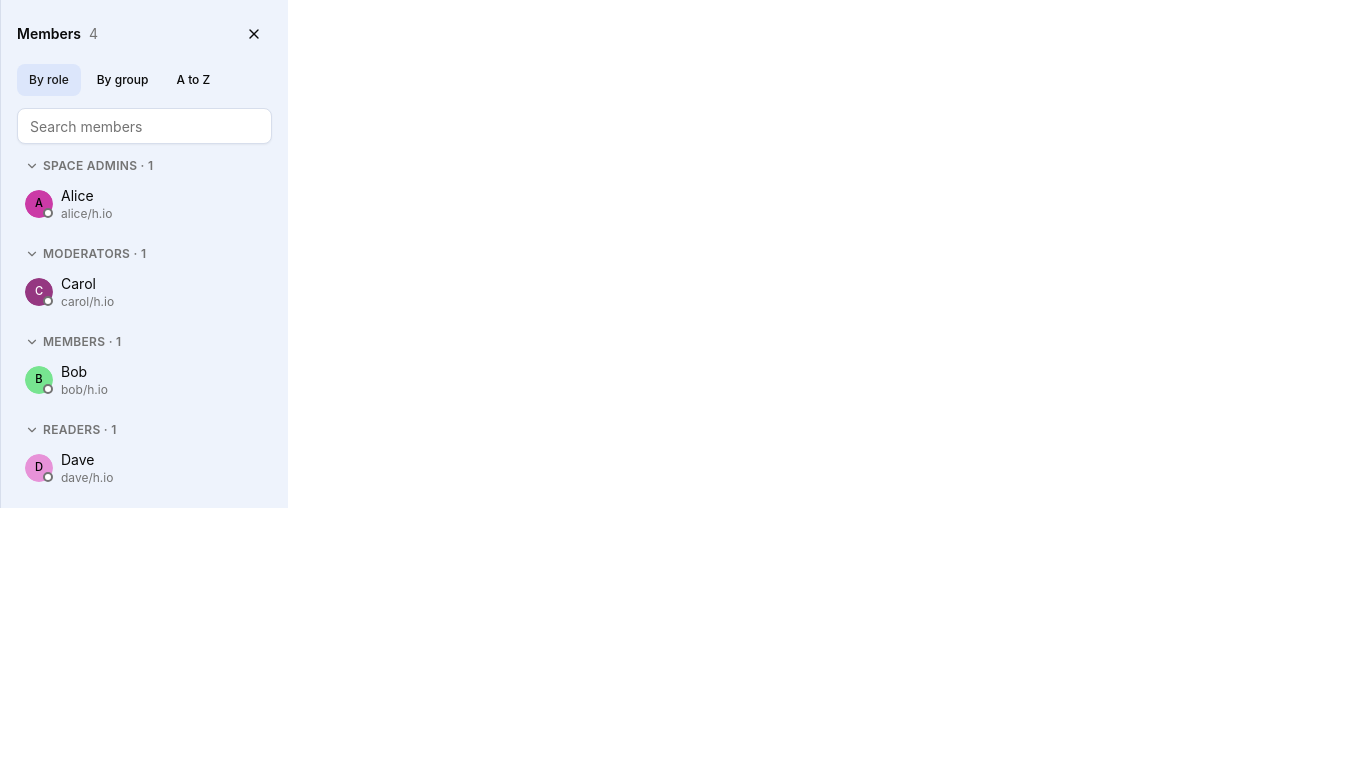
Scenario: MembersPanel, inline from lg › opens the profile card of a member with their role
Click the button "C Carol carol/h.io" at (144, 292), box [17,268,272,316]
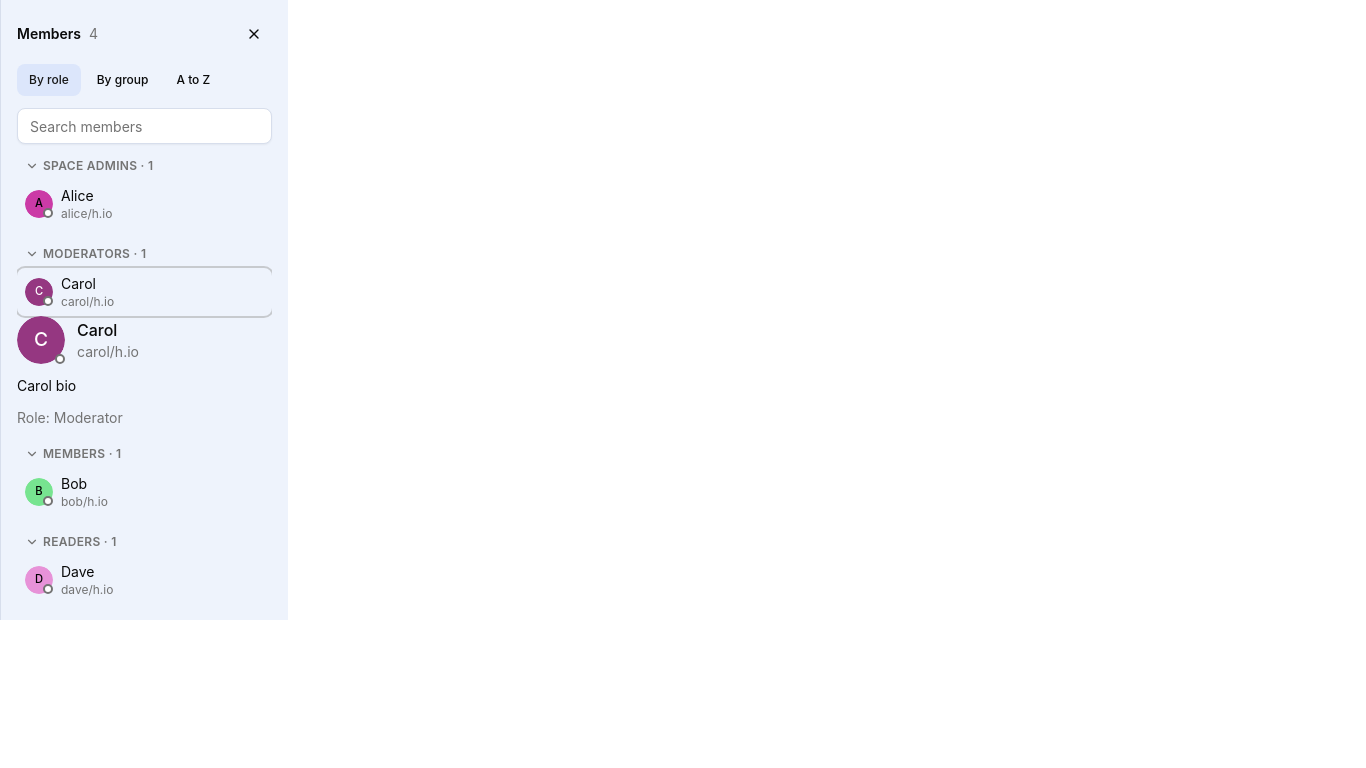
Expected: the text "Carol bio" is shown, [17,377,76,394]
Expected: the text "Role: Moderator" is shown, [17,409,123,426]
